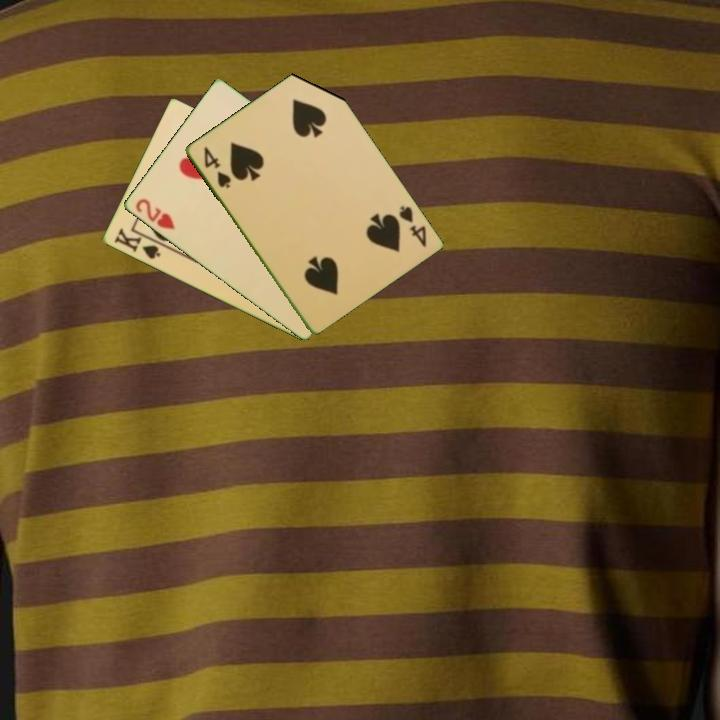2h: (131, 195, 178, 233)
4s: (200, 143, 234, 191), (395, 202, 429, 250)
Ks: (110, 225, 163, 262)
